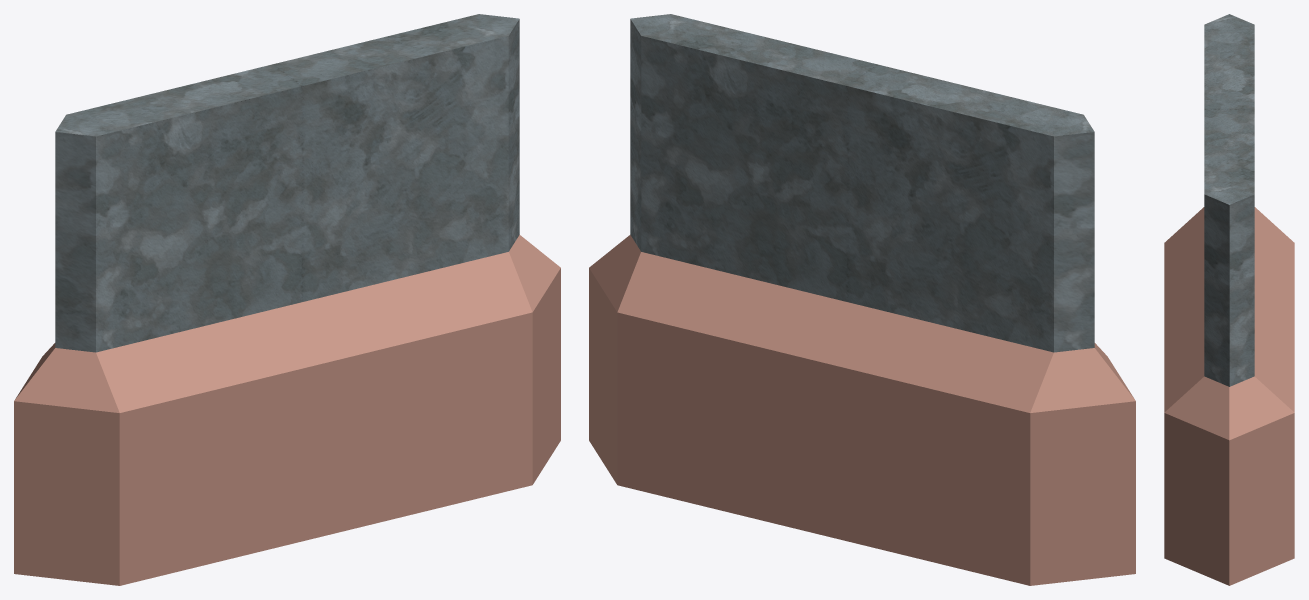
Rendered from wall_halfBrick.fbx.
3 views of the same model, side by side, from view 1: azimuth 30°, elevation 25°; view 2: azimuth 150°, elevation 25°; view 3: azimuth 270°, elevation 25° (orthographic). The views are drawn at different scales.
Parts seen in each view (by area): view 1: wall_baseWideHigh; view 2: wall_baseWideHigh; view 3: wall_baseWideHigh.
Boxes of the visible parts, box(x1,y1,x2,y2) form: wall_baseWideHigh: box(14, 14, 560, 585); wall_baseWideHigh: box(589, 14, 1135, 585); wall_baseWideHigh: box(1164, 14, 1294, 585).
Size of the model in its own units: 13.25 by 10 by 3.25.
